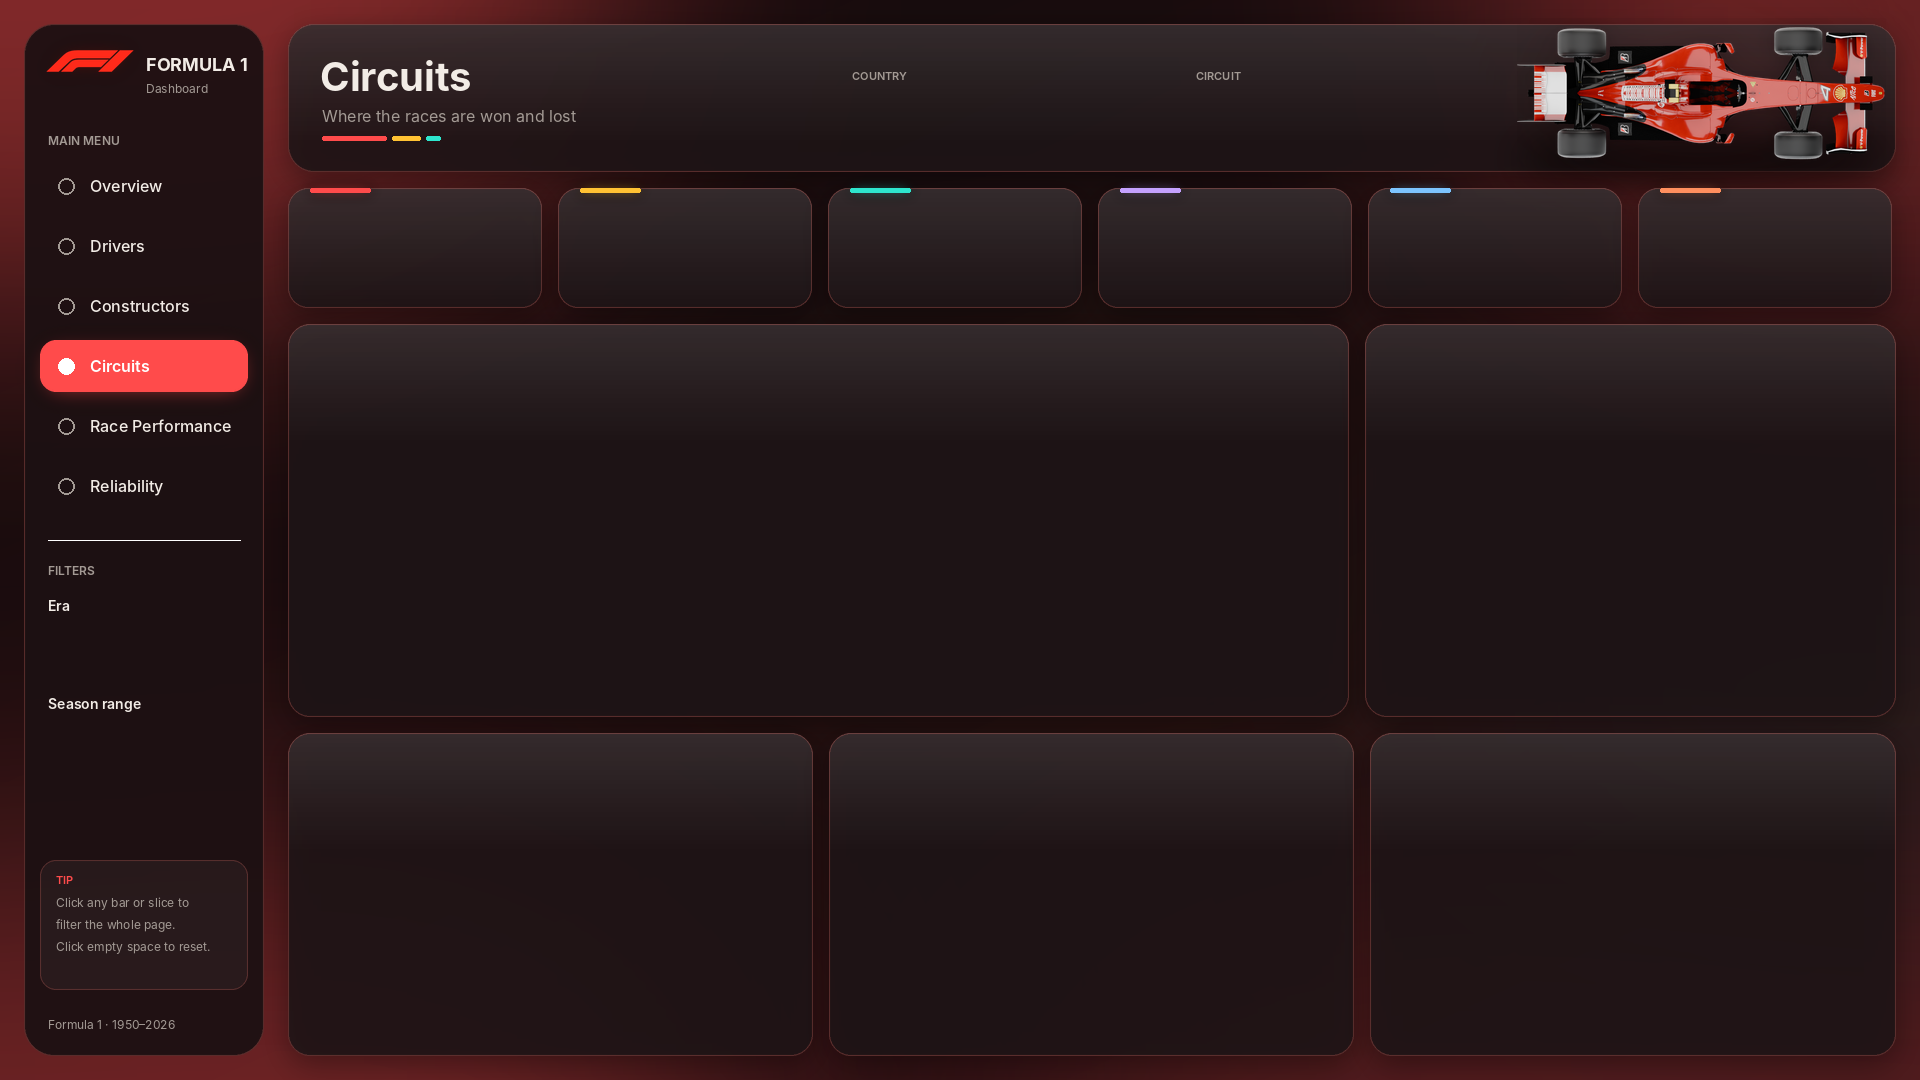

The dashboard page shown, as its layout file describes it:
{"tool":"powerbi","page":{"name":"Circuits","canvas":[1920,1080],"ordinal":3},"visuals":[{"type":"actionButton","box":[40,160,208,52],"z":1000},{"type":"actionButton","box":[40,220,208,52],"z":2000},{"type":"actionButton","box":[40,280,208,52],"z":3000},{"type":"actionButton","box":[40,340,208,52],"z":4000},{"type":"actionButton","box":[40,400,208,52],"z":5000},{"type":"actionButton","box":[40,460,208,52],"z":6000},{"type":"slicer","fields":{"Values":["dim_race.era"]},"box":[40,622,208,44],"z":7000},{"type":"slicer","fields":{"Values":["dim_race.year"]},"box":[40,725,207.5,95],"z":8000},{"type":"slicer","fields":{"Values":["dim_circuit.country"]},"box":[848,90,328,40],"z":9000},{"type":"slicer","fields":{"Values":["dim_circuit.circuit_name"]},"box":[1192,90,328,40],"z":10000},{"type":"card","fields":{"Values":["_Measures.Races"]},"box":[300,202,230,96],"z":11000},{"type":"card","fields":{"Values":["_Measures.Poles"]},"box":[570,202,230,96],"z":12000},{"type":"card","fields":{"Values":["_Measures.Pole Conversion"]},"box":[840,202,230,96],"z":13000},{"type":"card","fields":{"Values":["_Measures.Avg Grid Position"]},"box":[1110,202,230,96],"z":14000},{"type":"card","fields":{"Values":["_Measures.Finish Rate"]},"box":[1380,202,230,96],"z":15000},{"type":"card","fields":{"Values":["_Measures.Retirement Rate"]},"box":[1650,202,230,96],"z":16000},{"type":"ribbonChart","title":"Circuits around the world (longitude / latitude)","fields":{"Category":["dim_circuit.circuit_name"],"Y":["Sum(dim_circuit.longitude)","Sum(dim_circuit.latitude)","_Measures.Races"]},"box":[300,336,1037,369],"z":17000},{"type":"clusteredBarChart","title":"Most-hosted circuits","fields":{"Category":["dim_circuit.circuit_name"],"Y":["_Measures.Races"]},"box":[1377,336,507,369],"z":18000},{"type":"clusteredBarChart","title":"Highest retirement rate","fields":{"Category":["dim_circuit.circuit_name"],"Y":["_Measures.Retirement Rate"]},"box":[300,745,501,299],"z":19000},{"type":"clusteredBarChart","title":"Races by country","fields":{"Category":["dim_circuit.country"],"Y":["_Measures.Races"]},"box":[841,745,501,299],"z":20000},{"type":"tableEx","title":"Circuit scoreboard","fields":{"Values":["dim_circuit.circuit_name","dim_circuit.country","_Measures.Races","_Measures.Poles","_Measures.Pole Conversion"]},"box":[1382,745,502,299],"z":21000}]}

Visuals, with their boxes on the page's 1920x1080 design canvas (x1, y1, x2, y2). These are canvas units, not pixel positions in the 1920x1080 screenshot, which may show the page scaled, cropped or inside an application window:
actionButton: l=40, t=160, r=248, b=212
actionButton: l=40, t=220, r=248, b=272
actionButton: l=40, t=280, r=248, b=332
actionButton: l=40, t=340, r=248, b=392
actionButton: l=40, t=400, r=248, b=452
actionButton: l=40, t=460, r=248, b=512
slicer - dim_race.era: l=40, t=622, r=248, b=666
slicer - dim_race.year: l=40, t=725, r=248, b=820
slicer - dim_circuit.country: l=848, t=90, r=1176, b=130
slicer - dim_circuit.circuit_name: l=1192, t=90, r=1520, b=130
card - _Measures.Races: l=300, t=202, r=530, b=298
card - _Measures.Poles: l=570, t=202, r=800, b=298
card - _Measures.Pole Conversion: l=840, t=202, r=1070, b=298
card - _Measures.Avg Grid Position: l=1110, t=202, r=1340, b=298
card - _Measures.Finish Rate: l=1380, t=202, r=1610, b=298
card - _Measures.Retirement Rate: l=1650, t=202, r=1880, b=298
"Circuits around the world (longitude / latitude)" ribbonChart: l=300, t=336, r=1337, b=705
"Most-hosted circuits" clusteredBarChart: l=1377, t=336, r=1884, b=705
"Highest retirement rate" clusteredBarChart: l=300, t=745, r=801, b=1044
"Races by country" clusteredBarChart: l=841, t=745, r=1342, b=1044
"Circuit scoreboard" tableEx: l=1382, t=745, r=1884, b=1044
